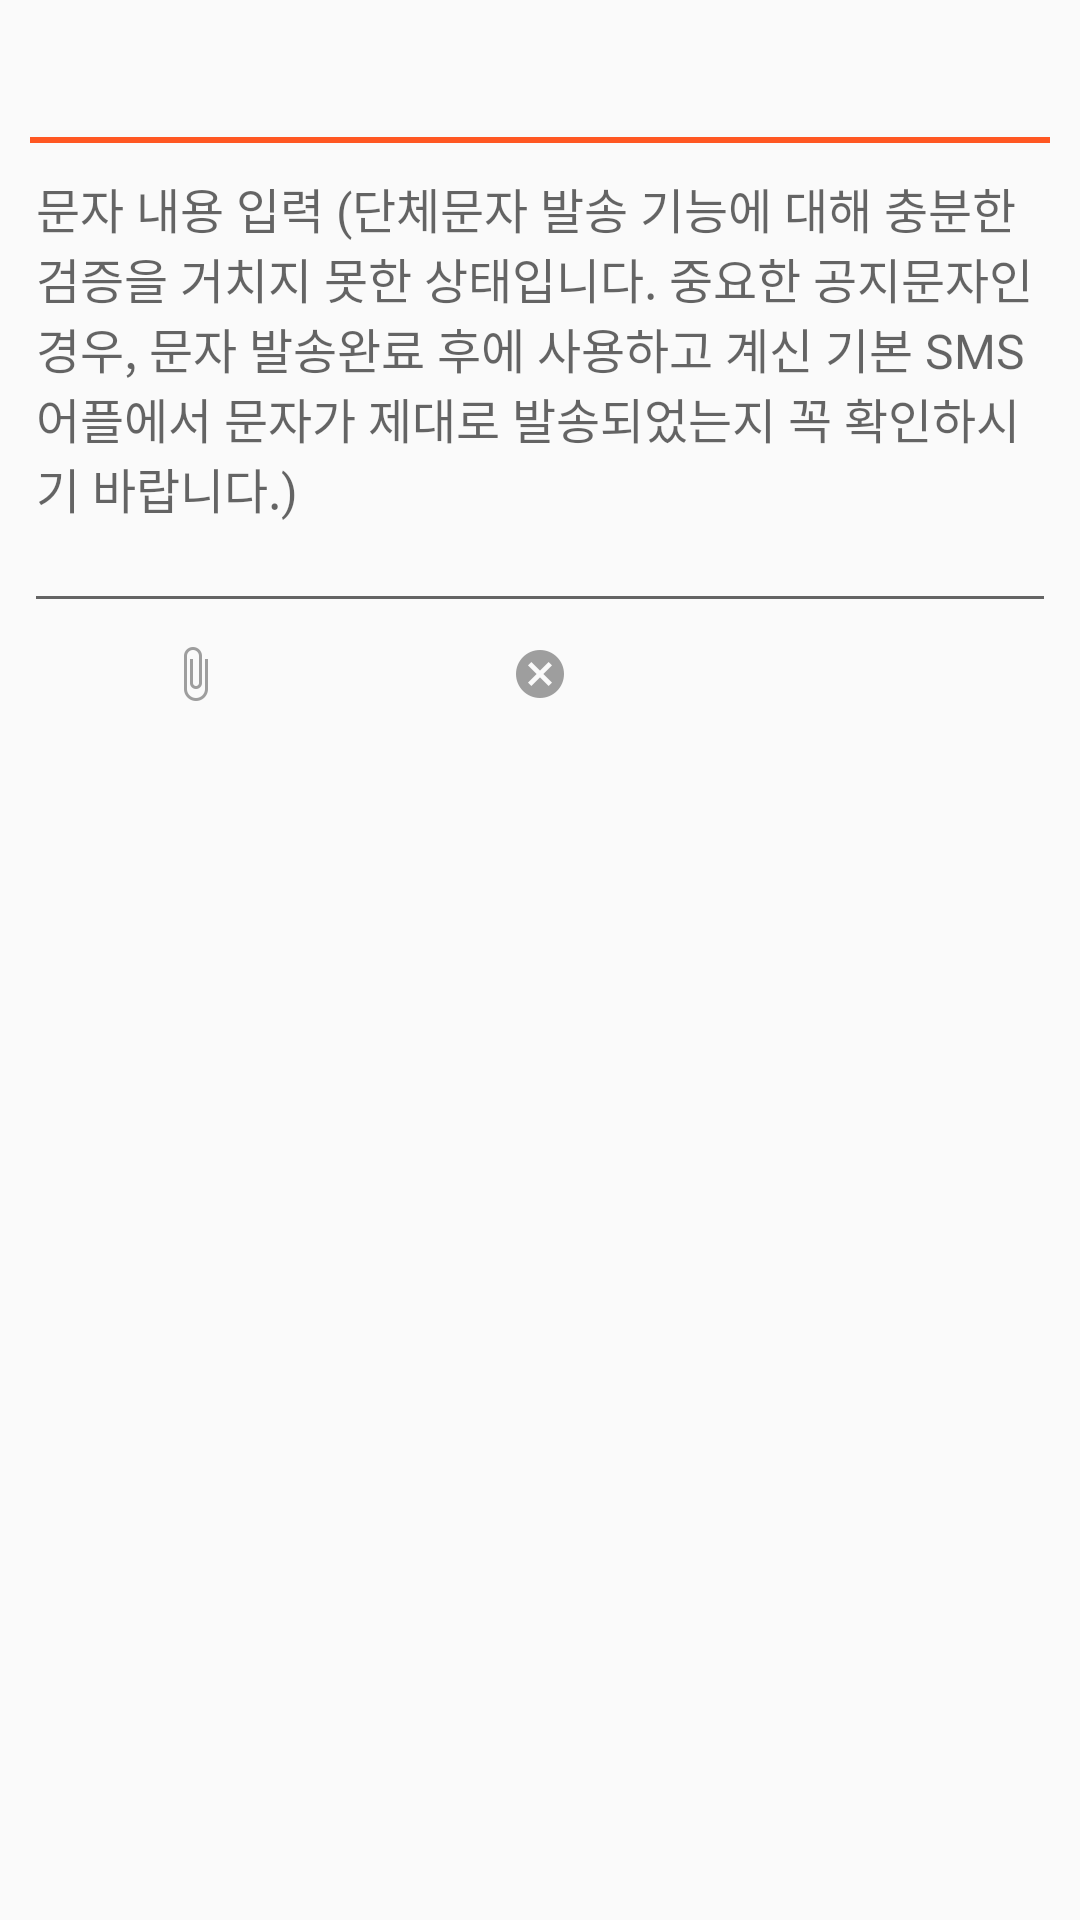

Screen size 1080×1920. Icon name, then its center in pixels as (x=x, y=y):
attach file: (x=196, y=674)
cancel: (x=540, y=674)
